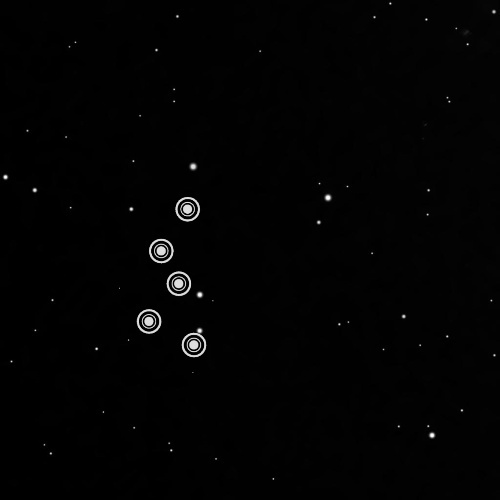cassiopeia: (121, 185, 220, 366)
